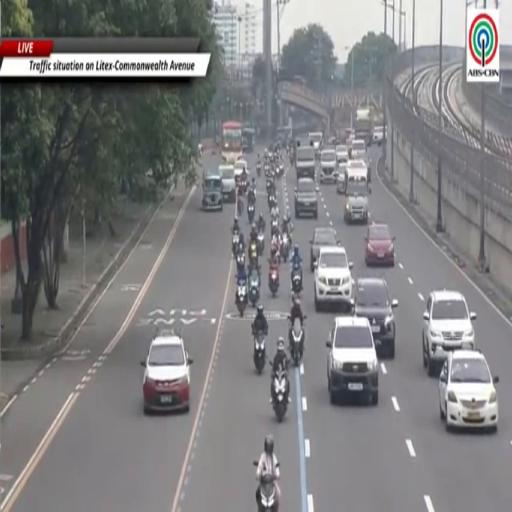bus: (221, 121, 242, 164)
car: (439, 350, 498, 431), (422, 291, 476, 376), (327, 316, 378, 405), (141, 332, 192, 413), (354, 277, 398, 358), (314, 247, 354, 311), (344, 168, 371, 223), (365, 223, 395, 266), (310, 228, 339, 271), (295, 179, 318, 219), (202, 173, 223, 211), (219, 165, 236, 202), (319, 149, 337, 183), (337, 162, 347, 194), (360, 155, 371, 183), (351, 139, 366, 158), (336, 144, 348, 163), (373, 125, 383, 146)
motorcycle: (273, 370, 287, 422), (258, 473, 277, 511), (289, 325, 305, 366), (254, 332, 266, 374), (249, 271, 260, 307), (236, 282, 247, 316), (271, 233, 282, 264), (248, 241, 259, 268), (269, 268, 279, 297), (291, 268, 302, 294), (281, 232, 290, 260), (232, 233, 239, 257), (236, 251, 245, 269), (237, 197, 244, 217), (248, 204, 255, 223), (258, 232, 264, 254), (276, 163, 284, 177), (268, 195, 276, 209), (266, 180, 273, 195), (271, 218, 278, 233), (240, 179, 247, 194), (265, 164, 270, 178), (256, 164, 261, 178)
truck: (354, 108, 373, 147), (295, 145, 315, 180)
